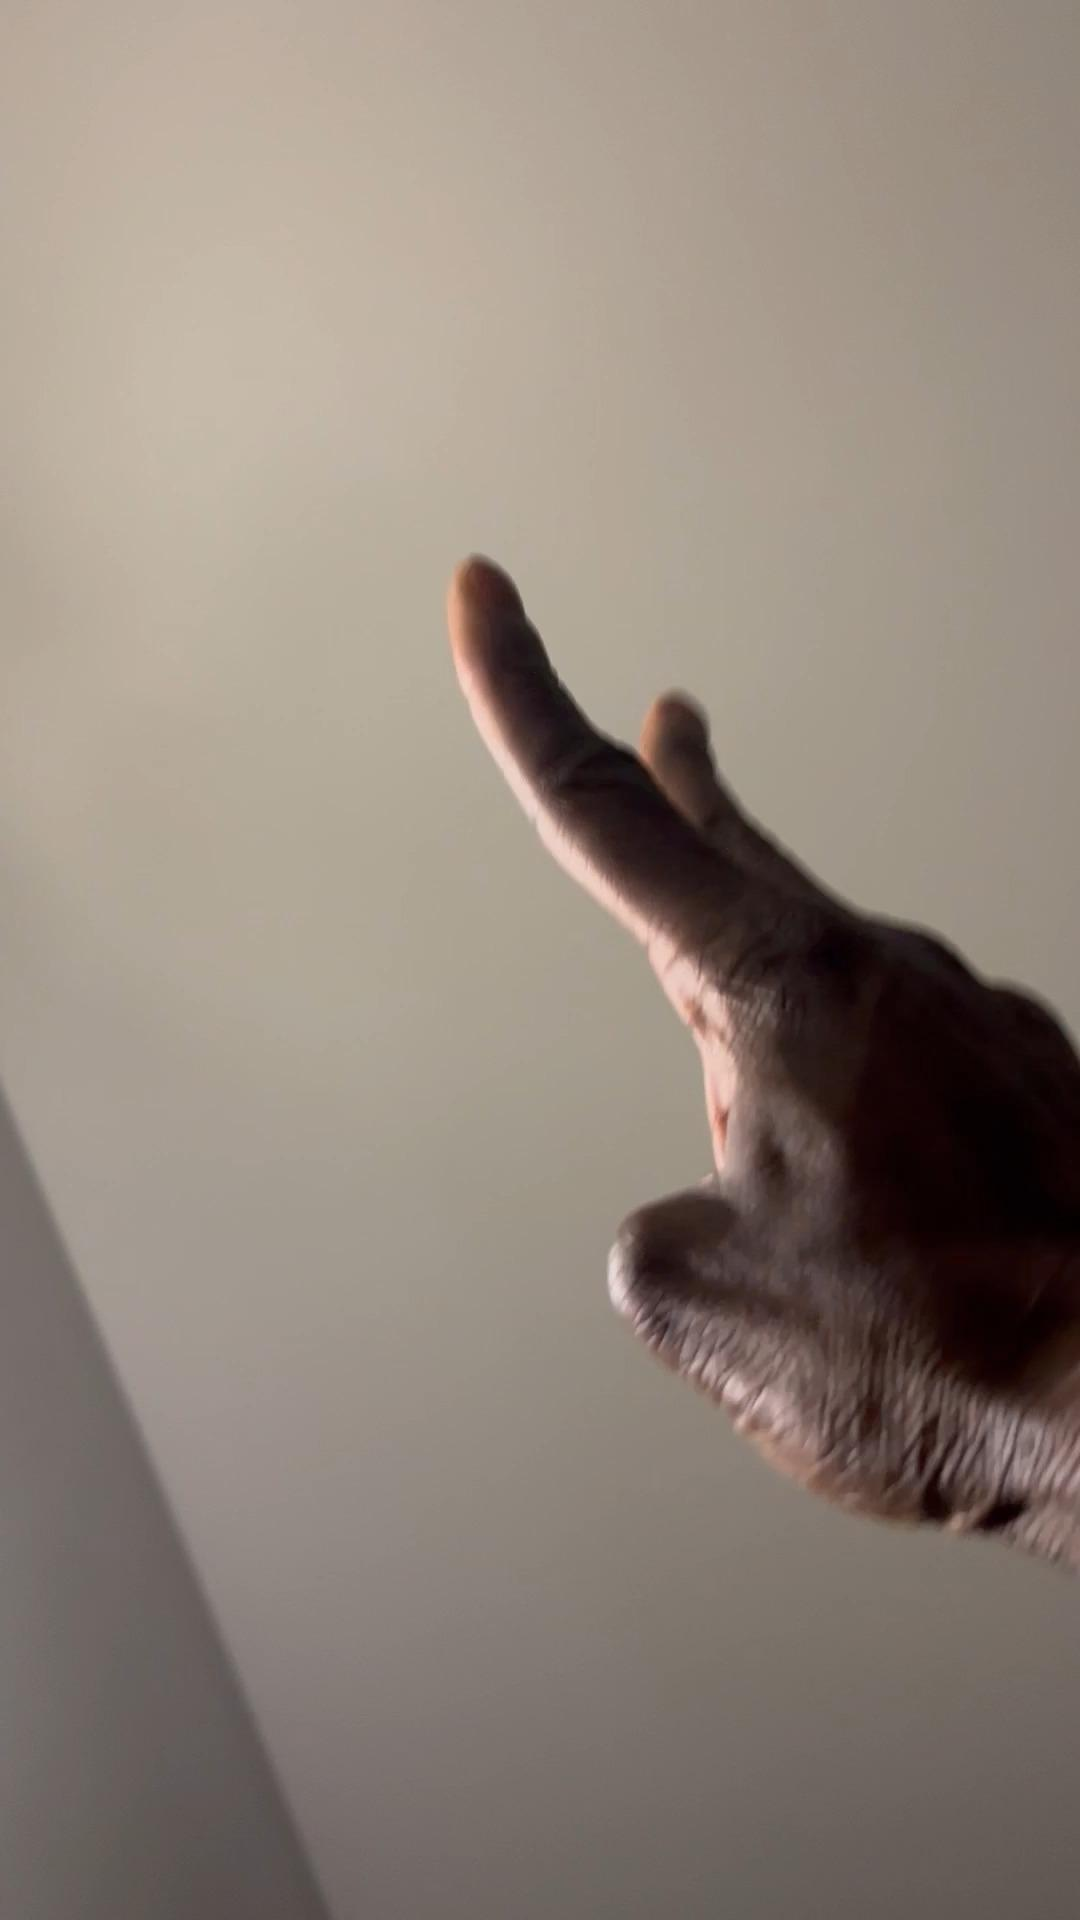Scissors: (443, 547, 1080, 1564)
